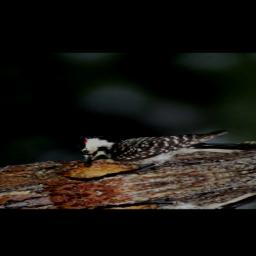Woodpecker: (67, 110, 256, 183)
